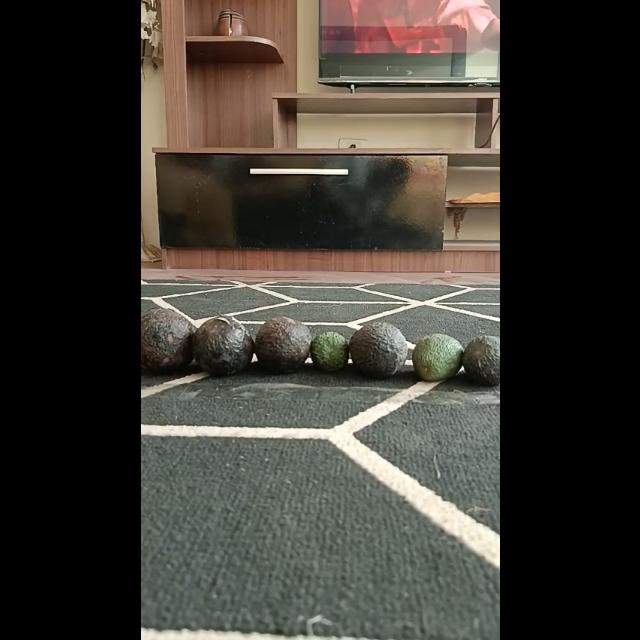Primera: (191, 315, 253, 375), (140, 307, 194, 373), (254, 316, 312, 372), (349, 322, 407, 378)
Segunda: (411, 332, 463, 382), (460, 334, 500, 386)
Tercera: (310, 331, 348, 372)
